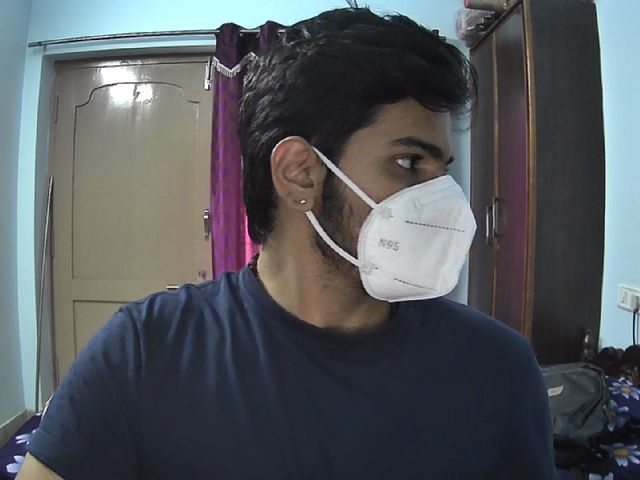Mask: (322, 177, 477, 302)
